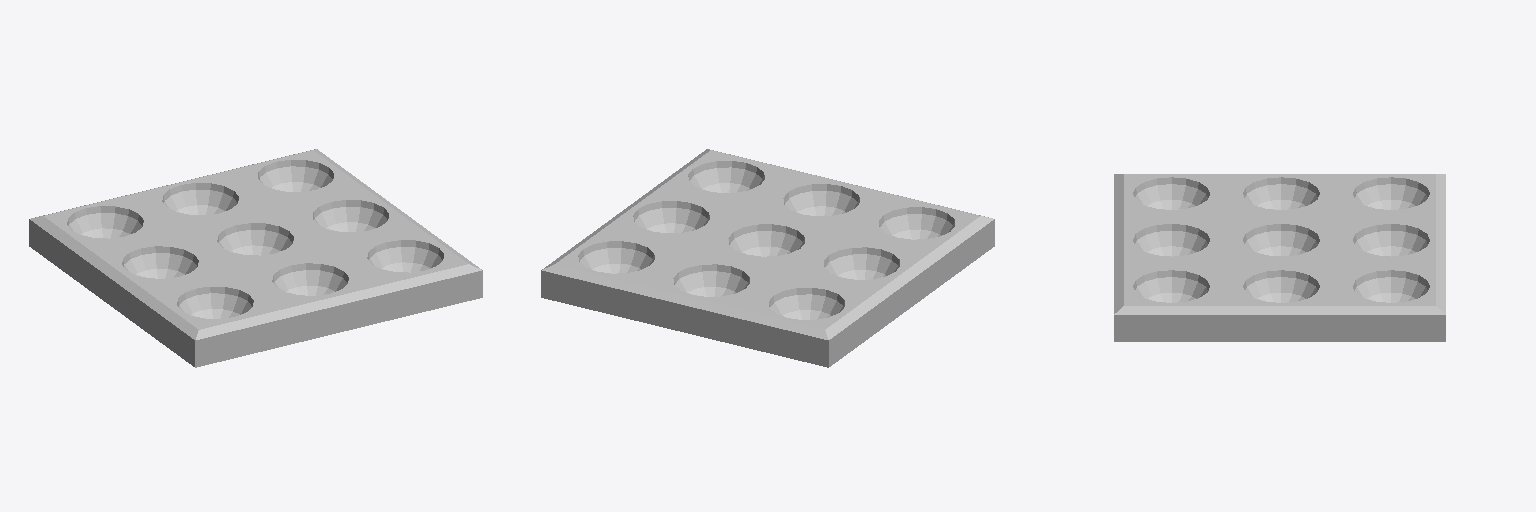
Rendered from board_segment.obj.
3 renders of one model, left to right at view 1: azimuth 30°, elevation 25°; view 2: azimuth 150°, elevation 25°; view 3: azimuth 270°, elevation 25°, orthographic.
Visible parts, largest first — view 1: Plane; view 2: Plane; view 3: Plane.
Boxes of the visible parts, <box> form: Plane: <box>29,149,482,367</box>; Plane: <box>541,149,994,367</box>; Plane: <box>1114,174,1445,341</box>.
Size of the model in its own units: 0.3013 by 0.0321 by 0.3013.